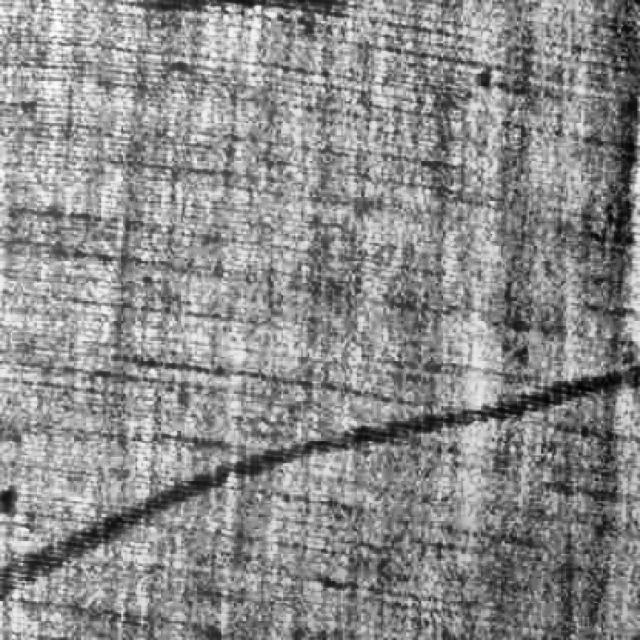oil_spot: (0, 346, 640, 614)
